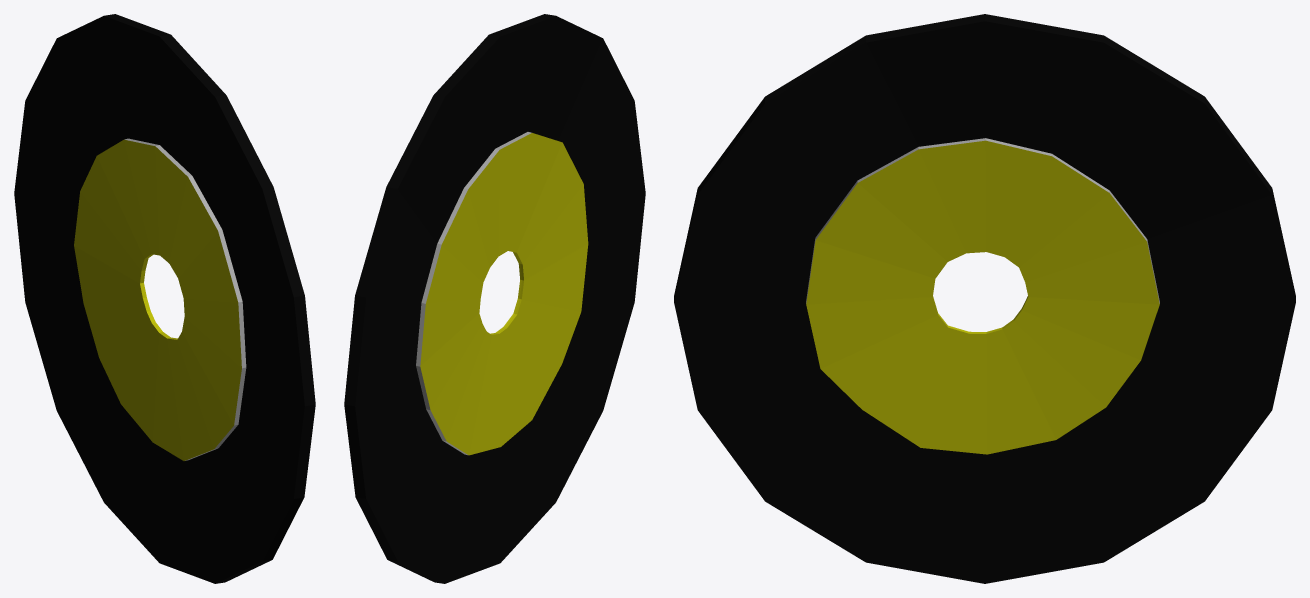
The model's file is record 1 fbx.fbx.
3 views of the same model, side by side, from view 1: azimuth 30°, elevation 25°; view 2: azimuth 150°, elevation 25°; view 3: azimuth 270°, elevation 25° (orthographic). The views are drawn at different scales.
Parts seen in each view (by area): view 1: polySurface4; view 2: polySurface4; view 3: polySurface4.
Part boxes in pixels (bbox=[...]): polySurface4: bbox=[14, 14, 315, 583]; polySurface4: bbox=[344, 14, 645, 583]; polySurface4: bbox=[674, 14, 1295, 583].
Bounding box in the file's own units: 0.0288 × 0.9535 × 0.9518.
